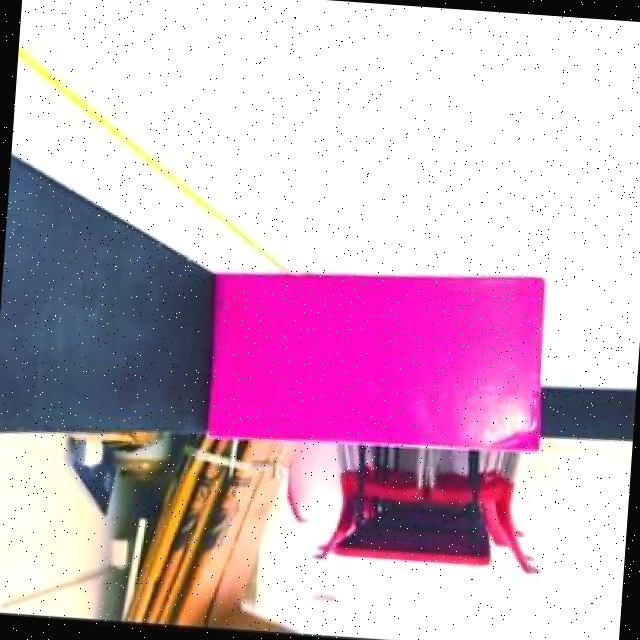xparking: (205, 252, 540, 446)
